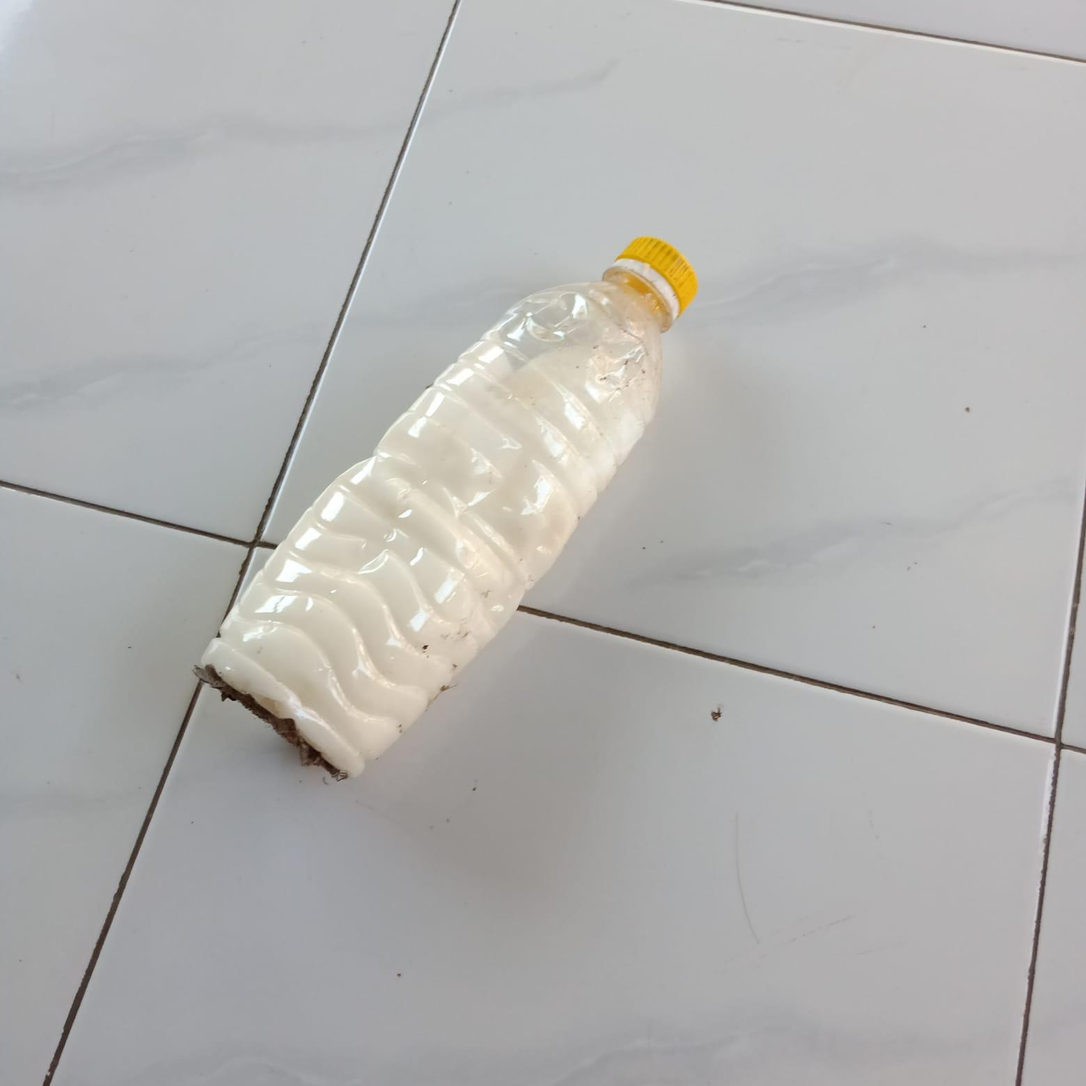Plastik: (200, 234, 698, 783)
